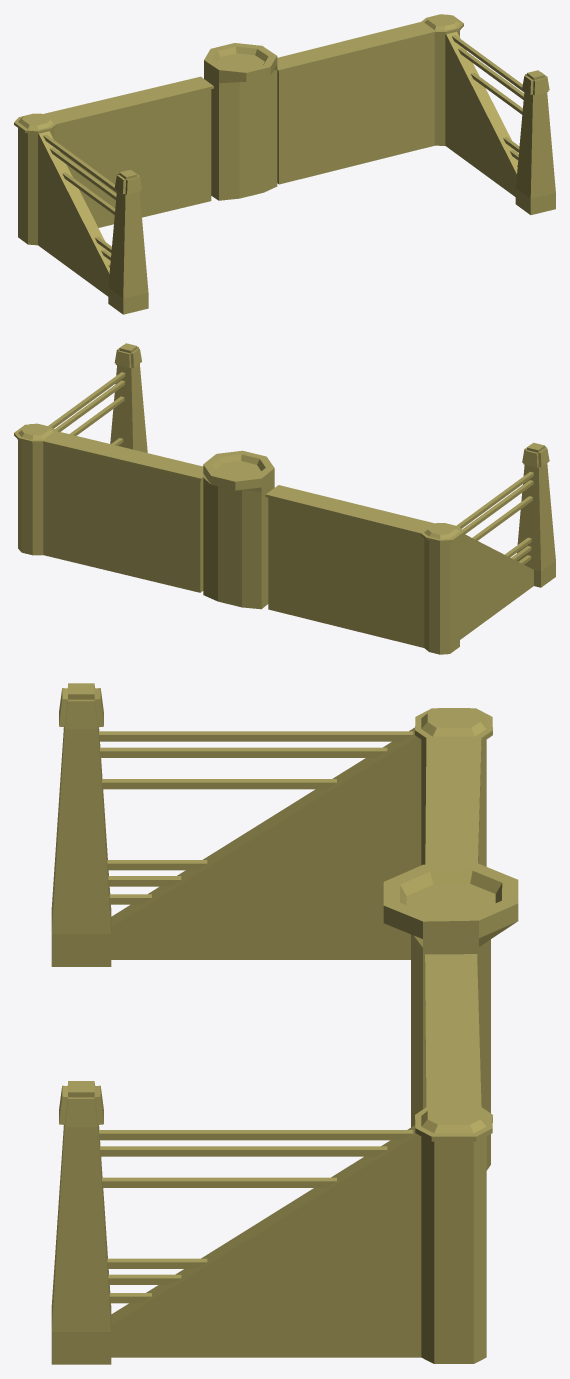
File: Tower_Stone_Fence_Art.fbx
3 renders of one model, top to bottom at view 1: azimuth 30°, elevation 25°; view 2: azimuth 150°, elevation 25°; view 3: azimuth 270°, elevation 25°, orthographic. The views are drawn at different scales.
Parts seen in each view (by area): view 1: Tower_Ornamental_Fence_Art; view 2: Tower_Ornamental_Fence_Art; view 3: Tower_Ornamental_Fence_Art.
Boxes of the visible parts, x1=… form: Tower_Ornamental_Fence_Art: x1=14, y1=14, x2=555, y2=314; Tower_Ornamental_Fence_Art: x1=14, y1=343, x2=555, y2=654; Tower_Ornamental_Fence_Art: x1=51, y1=683, x2=518, y2=1364.
Size of the model in its own units: 390 by 113 by 179.
